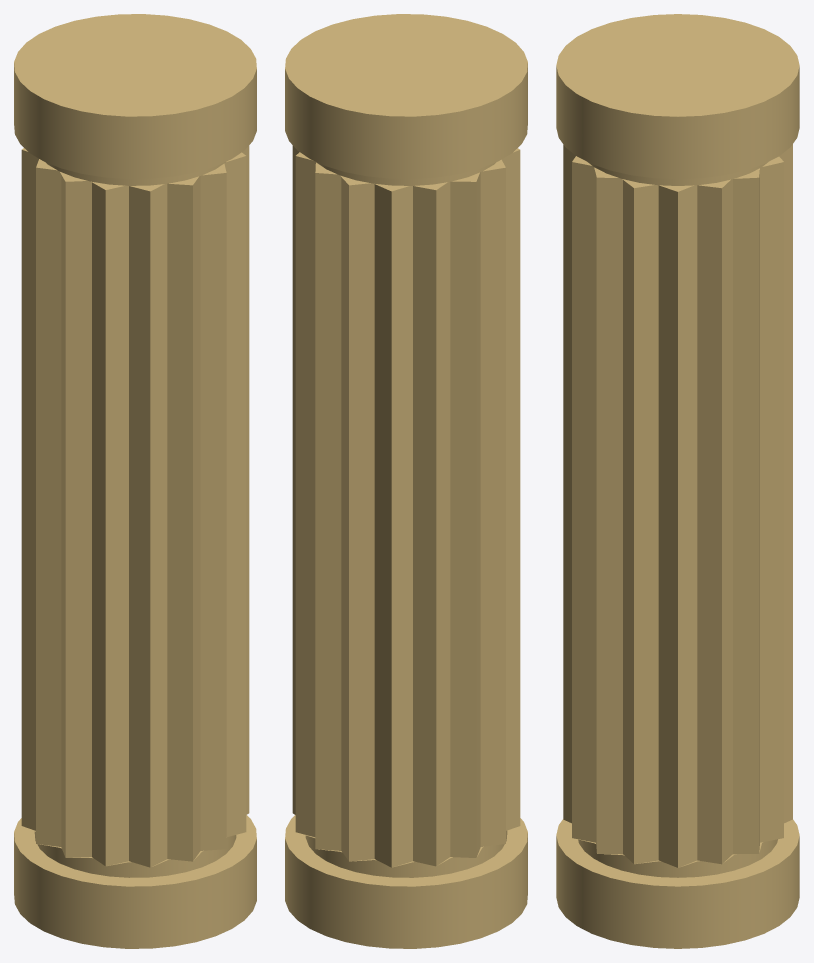
The model's file is arrival_sconce.glb.
3 renders of one model, left to right at view 1: azimuth 30°, elevation 25°; view 2: azimuth 150°, elevation 25°; view 3: azimuth 270°, elevation 25°, orthographic.
Visible parts, largest first — view 1: arrival_sconce; view 2: arrival_sconce; view 3: arrival_sconce.
Boxes of the visible parts, x1,y1,x2,y2 form: arrival_sconce: (14, 14, 256, 948); arrival_sconce: (285, 14, 527, 948); arrival_sconce: (556, 14, 799, 948).
Bounding box in the file's own units: 0.212 × 0.8 × 0.212.
